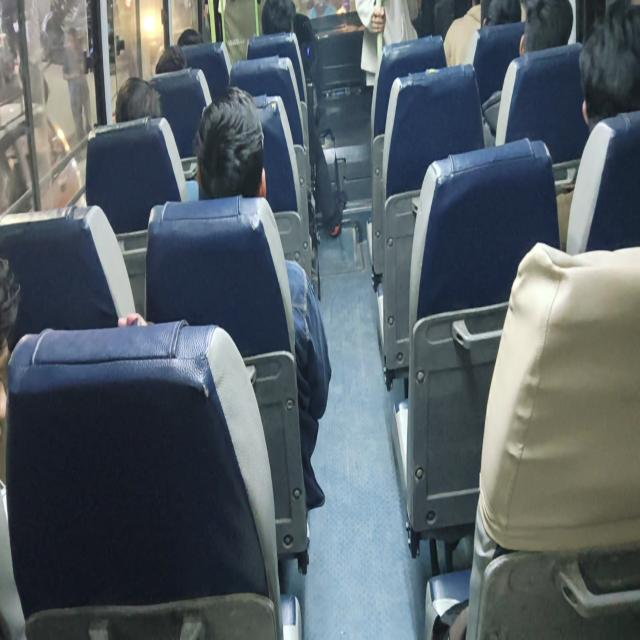person: (195, 94, 276, 209), (583, 30, 640, 124), (512, 2, 562, 72), (250, 0, 302, 52), (483, 5, 525, 55), (150, 40, 193, 76), (118, 75, 146, 127), (172, 28, 209, 48)
